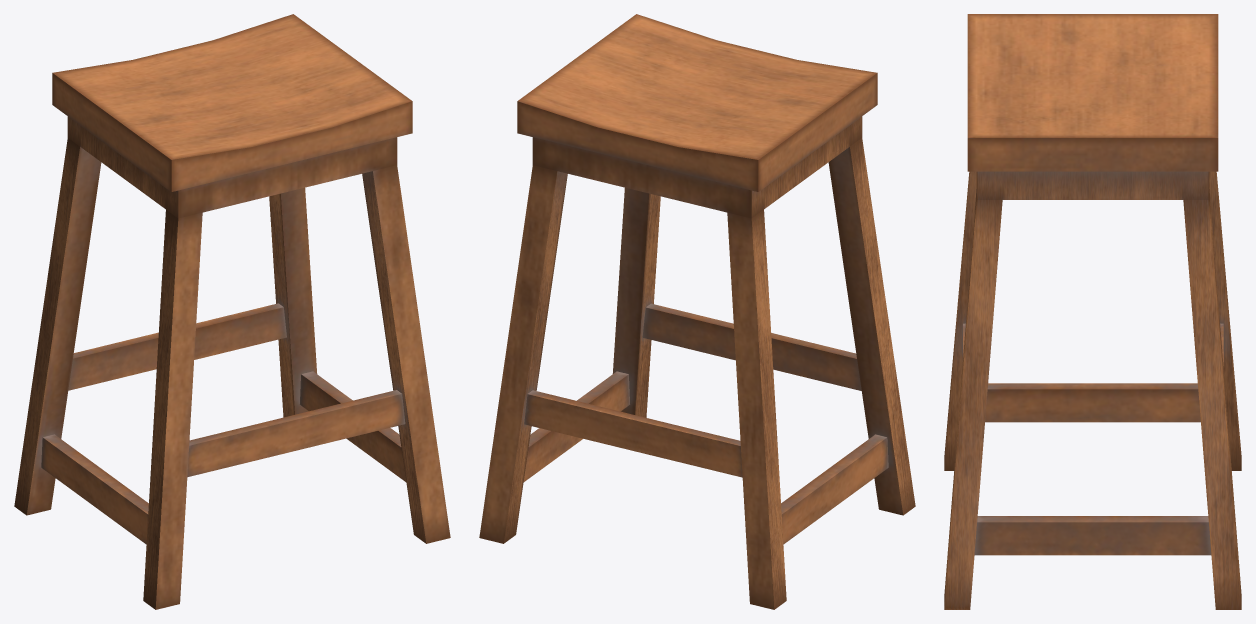
File: stool_wooden_low_poly.glb
The picture shows the model from 3 angles, left to right: view 1: azimuth 30°, elevation 25°; view 2: azimuth 150°, elevation 25°; view 3: azimuth 270°, elevation 25°; orthographic projection. The views are drawn at different scales.
Parts seen in each view (by area): view 1: Stool_1; view 2: Stool_1; view 3: Stool_1.
Part boxes in pixels (x1=…): Stool_1: x1=14, y1=14, x2=450, y2=609; Stool_1: x1=479, y1=14, x2=915, y2=609; Stool_1: x1=944, y1=14, x2=1241, y2=609.
Size of the model in its own units: 0.8624 by 1.22 by 0.7156.
1 material, 1 textured.
